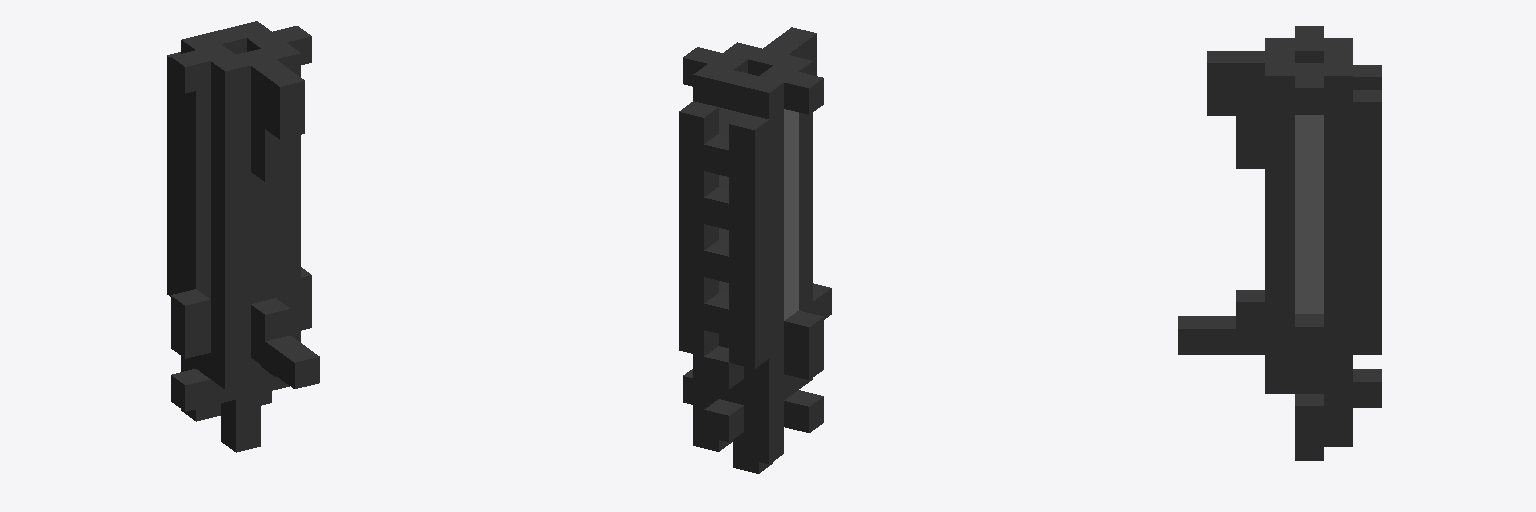
3 views of the same model, side by side, from view 1: azimuth 30°, elevation 25°; view 2: azimuth 150°, elevation 25°; view 3: azimuth 270°, elevation 25° (orthographic).
Parts seen in each view (by area): view 1: object 1; view 2: object 1; view 3: object 1.
Boxes of the visible parts, <box> form: object 1: <box>167,21,319,452</box>; object 1: <box>679,27,831,473</box>; object 1: <box>1178,26,1381,460</box>.
Bounding box in the file's own units: 0.5 × 1.5 × 0.7.
1 materials, 1 textured.